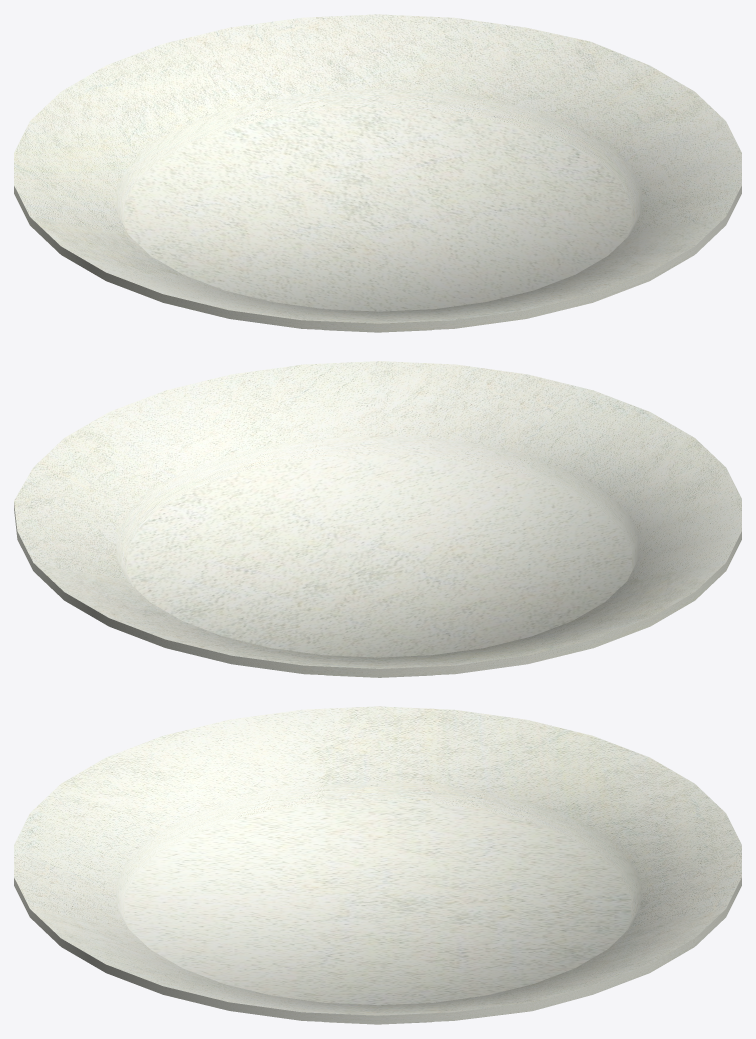
File: sara.FBX
3 renders of one model, top to bottom at view 1: azimuth 30°, elevation 25°; view 2: azimuth 150°, elevation 25°; view 3: azimuth 270°, elevation 25°, orthographic.
Visible parts, largest first — view 1: Cylinder001; view 2: Cylinder001; view 3: Cylinder001.
Part boxes in pixels (<box>): Cylinder001: <box>14,14,741,332</box>; Cylinder001: <box>14,361,741,677</box>; Cylinder001: <box>14,706,741,1024</box>.
Size of the model in its own units: 55.83 by 4.71 by 55.53.
Materials: 1 (1 with a texture image).
